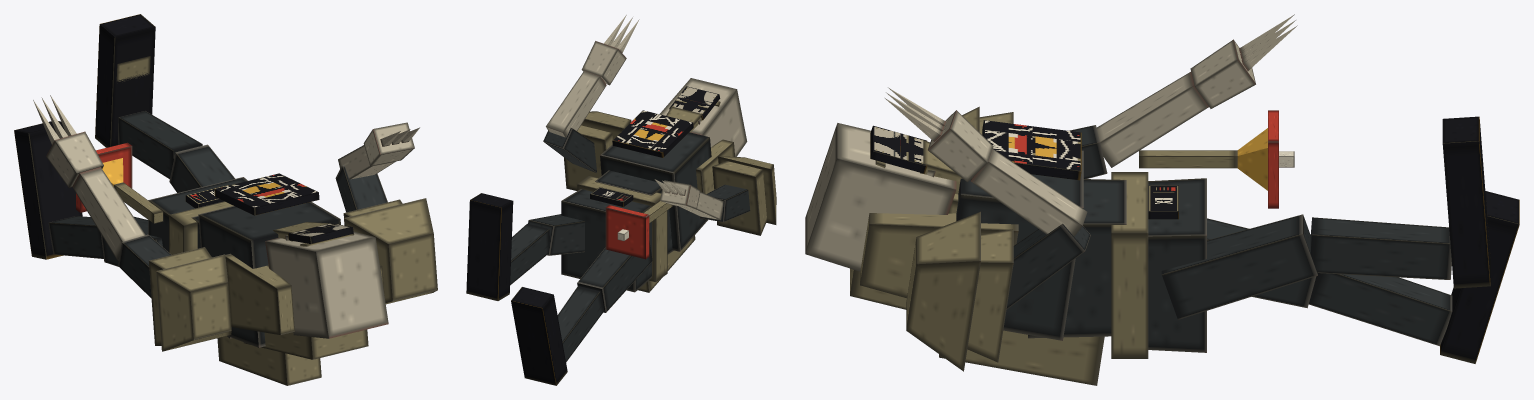
File: calmor_move.obj
The picture shows the model from 3 angles, left to right: view 1: azimuth 30°, elevation 25°; view 2: azimuth 150°, elevation 25°; view 3: azimuth 270°, elevation 25°; orthographic projection. The views are drawn at different scales.
Visible parts, largest first — view 1: calmor_move; view 2: calmor_move; view 3: calmor_move.
Boxes of the visible parts, <box> form: calmor_move: <box>14,14,437,385</box>; calmor_move: <box>466,15,776,385</box>; calmor_move: <box>805,14,1519,385</box>.
Size of the model in its own units: 0.5582 by 0.5304 by 1.03.
1 material, 1 textured.
